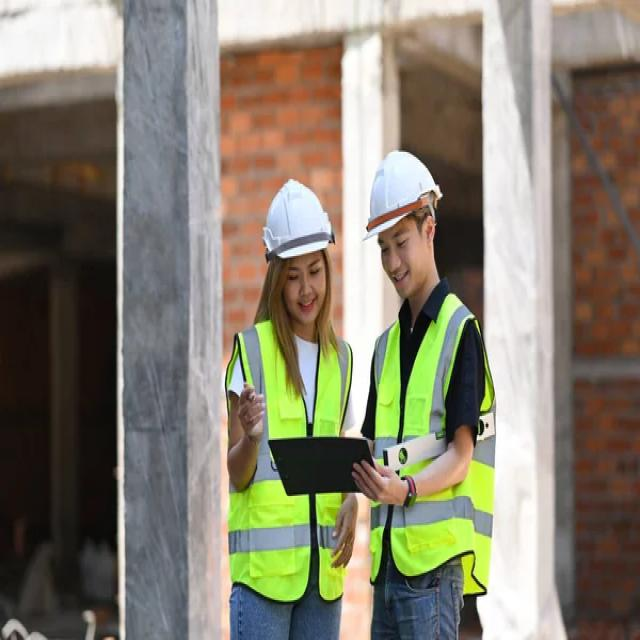helmet: (359, 148, 444, 244), (259, 176, 339, 270)
no-goggles: (275, 259, 332, 294), (377, 228, 429, 260)
vest: (365, 286, 502, 600), (225, 319, 355, 610)
